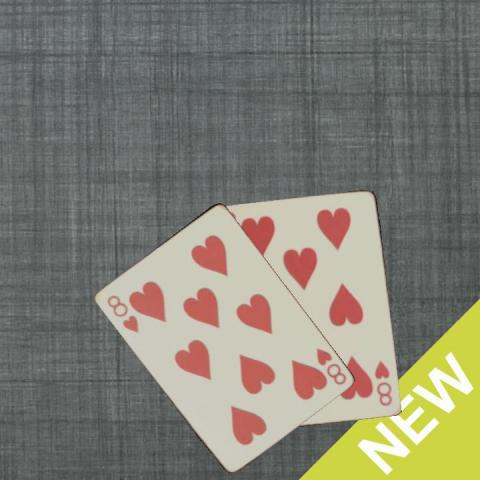8h: (103, 291, 140, 335), (312, 344, 347, 386), (372, 358, 394, 408)
